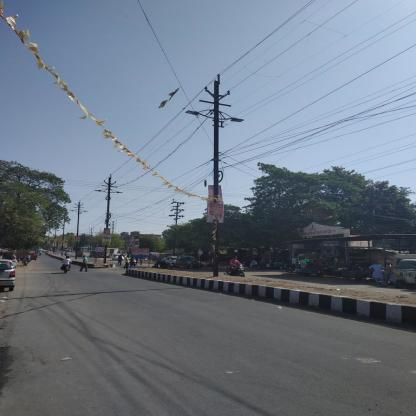Electrical Pole: (184, 71, 248, 279)
